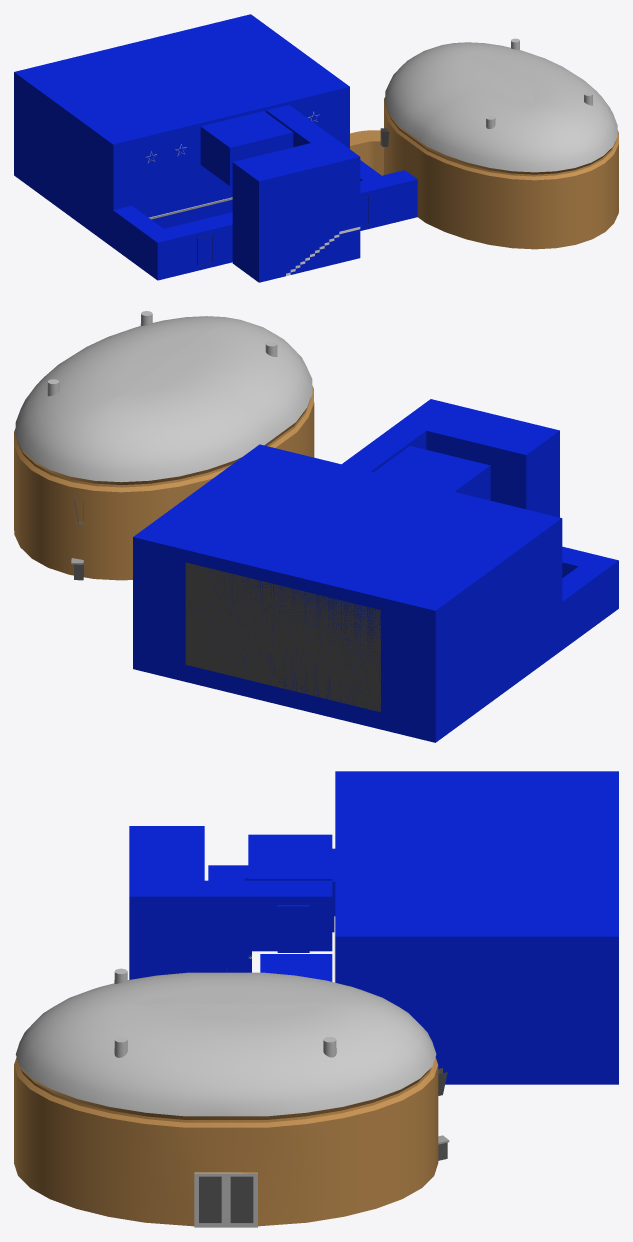
The model's file is map.fbx.
3 views of the same model, one above another, from view 1: azimuth 30°, elevation 25°; view 2: azimuth 150°, elevation 25°; view 3: azimuth 270°, elevation 25° (orthographic). The views are drawn at different scales.
Visible parts, largest first — view 1: Cube, Cylinder.003; view 2: Cube, Cylinder.003, Screen; view 3: Cube, Cylinder.003, Plane, Cube.037, Cylinder.007.
Boxes of the visible parts, x1,y1,x2,y2 form: Cube: [14, 14, 417, 282]; Cylinder.003: [350, 42, 618, 249]; Cube: [133, 399, 618, 742]; Cylinder.003: [14, 316, 314, 580]; Screen: [185, 562, 380, 712]; Cube: [129, 771, 618, 1084]; Cylinder.003: [14, 972, 438, 1227]; Plane: [199, 1176, 253, 1223]; Cube.037: [194, 1172, 257, 1227]; Cylinder.007: [114, 968, 336, 1057].
Bounding box in the file's own units: 11975 × 2967 × 9935.
